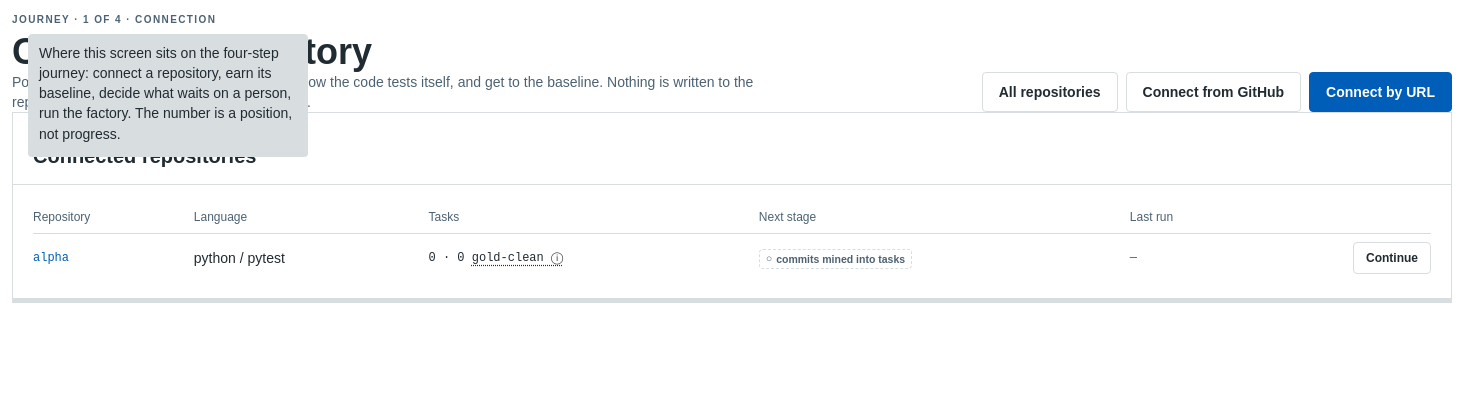
it: ConnectPage › every column header, pill and button on the list carries a hint; the stage-summary pill opens on hover with the registry copy
This screenshot has width=1464, height=416.
Expected: the table named "Connected repositories" is shown, top-left (33, 201), bottom-right (1431, 282)
Hover over the element showing "○ commits mined into tasks": (835, 259) top-left (759, 249), bottom-right (912, 269)
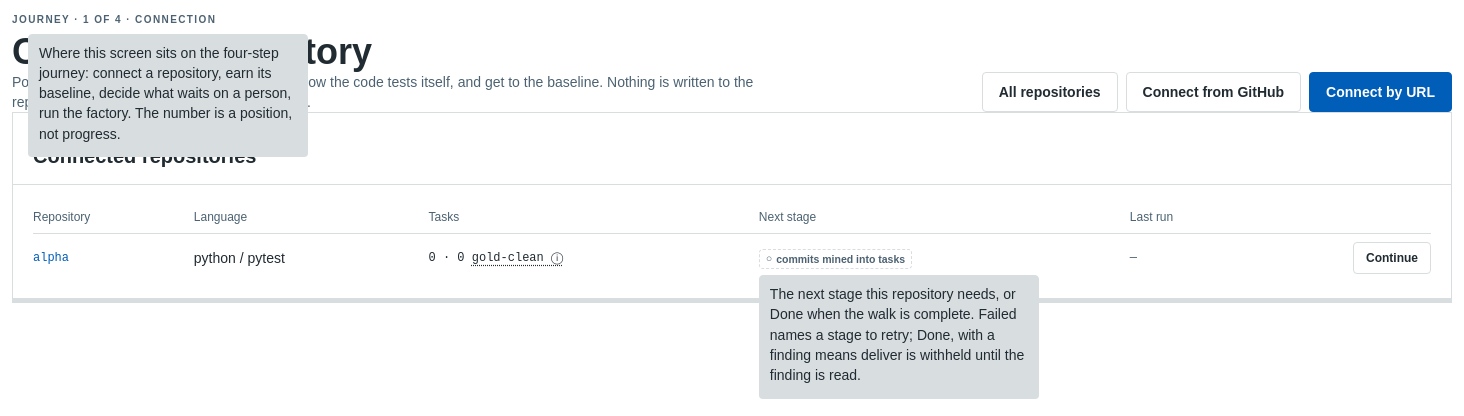
Expected: the text "The next stage this repository needs, or Done when the walk is complete. Failed names a stage to retry; Done, with a finding means deliver is withheld until the" is shown, top-left (770, 286), bottom-right (1024, 383)
